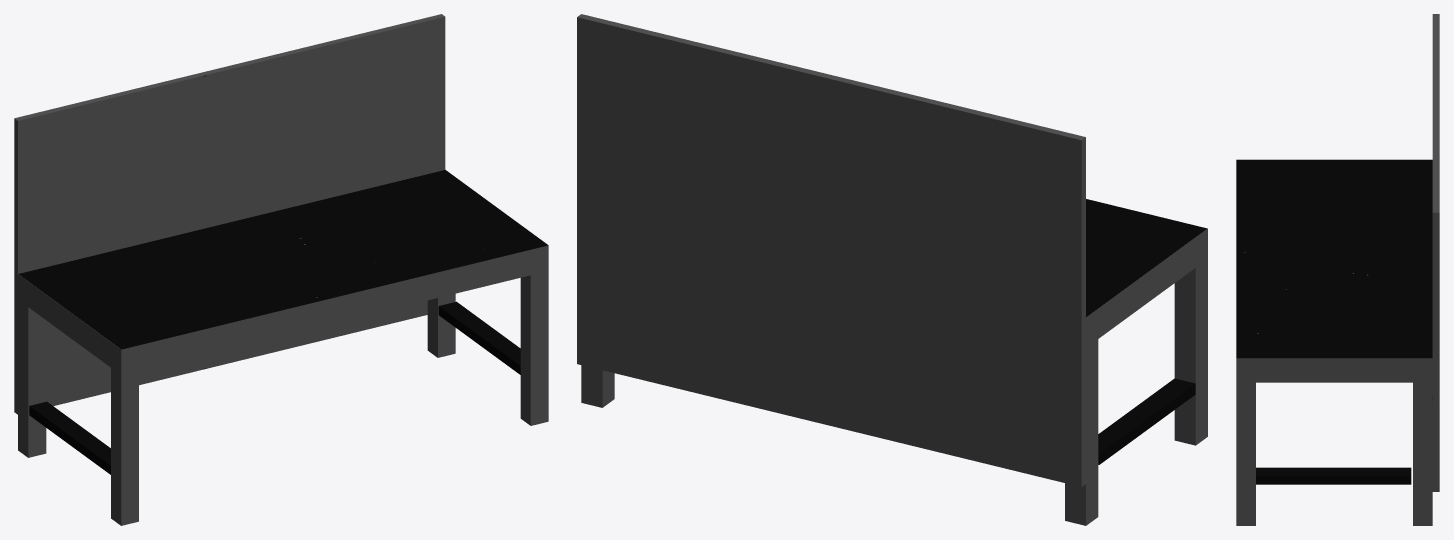
The model's file is MOD_GDD computer desk.fbx.
The picture shows the model from 3 angles, left to right: view 1: azimuth 30°, elevation 25°; view 2: azimuth 150°, elevation 25°; view 3: azimuth 270°, elevation 25°; orthographic projection. The views are drawn at different scales.
Parts seen in each view (by area): view 1: Computer_Desk; view 2: Computer_Desk; view 3: Computer_Desk.
Boxes of the visible parts, x1,y1,x2,y2 form: Computer_Desk: (14, 14, 548, 525); Computer_Desk: (577, 14, 1207, 525); Computer_Desk: (1236, 14, 1439, 525).
Bounding box in the file's own units: 167 × 123 × 72.5.
